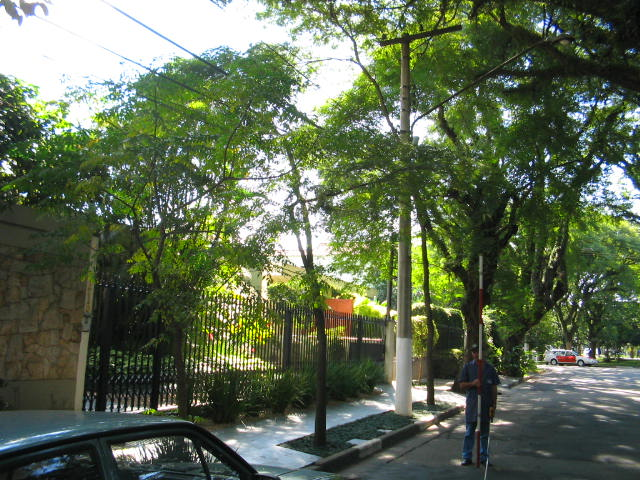crown: (4, 41, 299, 238), (258, 126, 462, 257)
stem: (297, 263, 341, 449), (167, 331, 200, 457)
stick: (469, 254, 488, 469)
tree: (3, 40, 300, 457), (257, 126, 462, 454)
